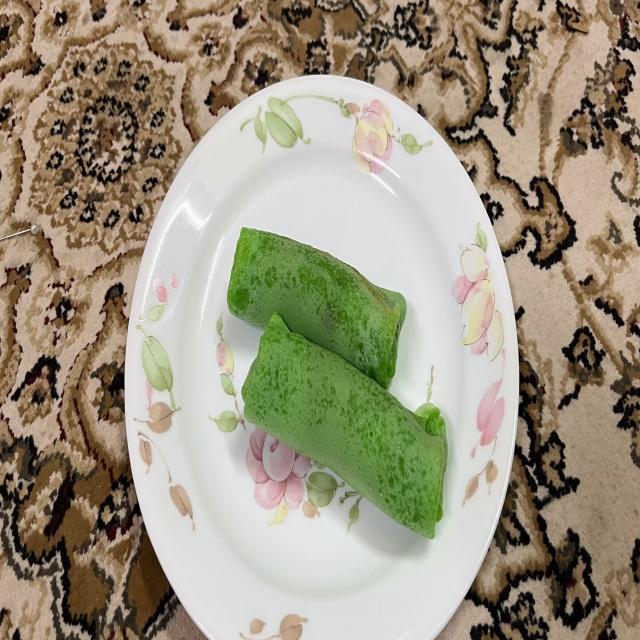Kuih-Ketayap: (241, 313, 448, 538), (228, 227, 406, 389)
